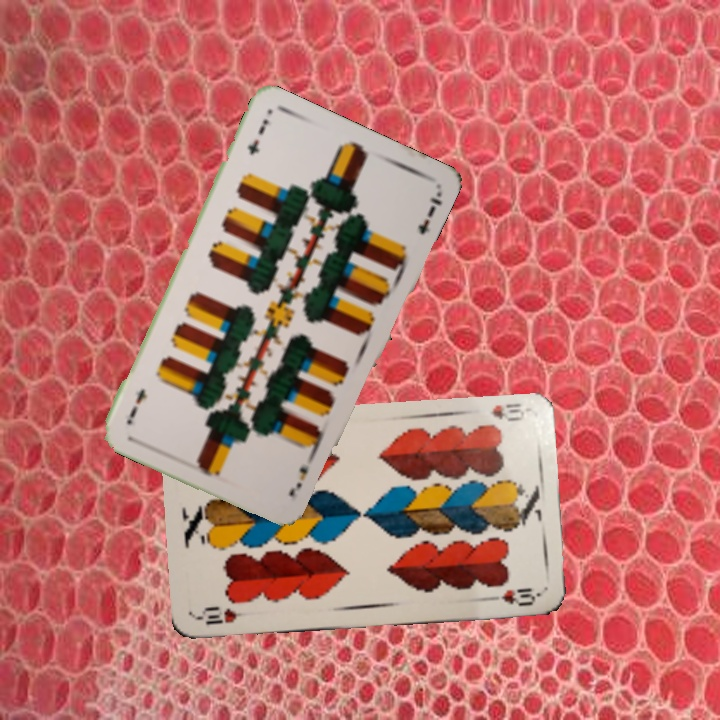E7: (285, 449, 318, 499), (243, 115, 272, 158)
H10: (194, 604, 253, 628), (486, 399, 527, 424)
